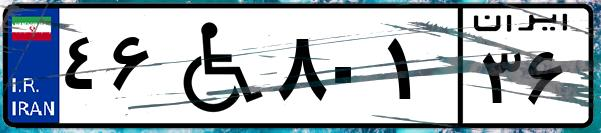0: (330, 28, 385, 110)
1: (385, 28, 445, 110)
3: (475, 38, 525, 113)
4: (57, 26, 110, 100)
6: (525, 38, 570, 115), (110, 28, 158, 98)
8: (270, 28, 330, 110)
ژ (معلولین و جانبازان): (158, 12, 270, 120)
